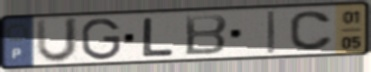B: (183, 13, 230, 57)
C: (287, 10, 336, 52)
G: (79, 17, 123, 62)
I: (265, 10, 277, 55)
L: (140, 17, 176, 58)
U: (34, 16, 81, 65)
